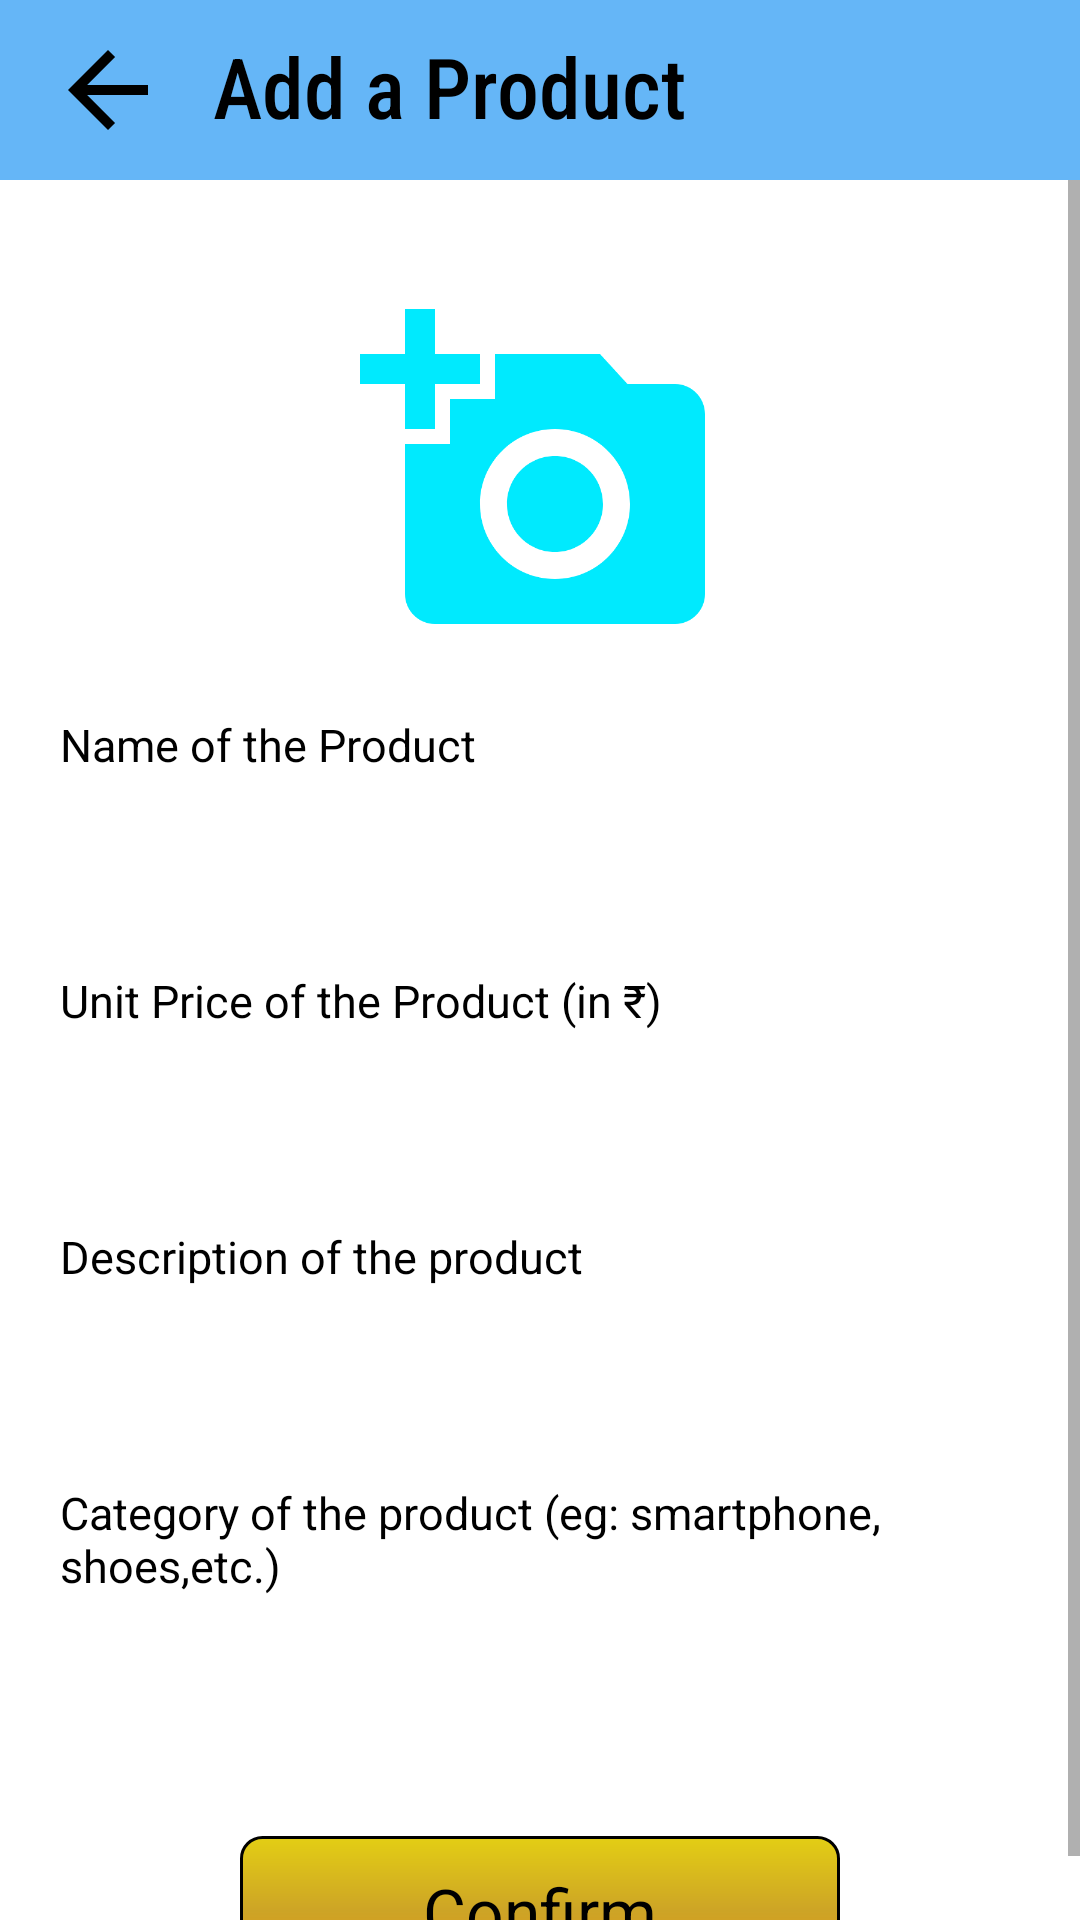

Named icons in this screenshot (1080 × 1920) and their centers, (x=x, y=y):
addprod: (x=532, y=466)
back: (x=108, y=90)
